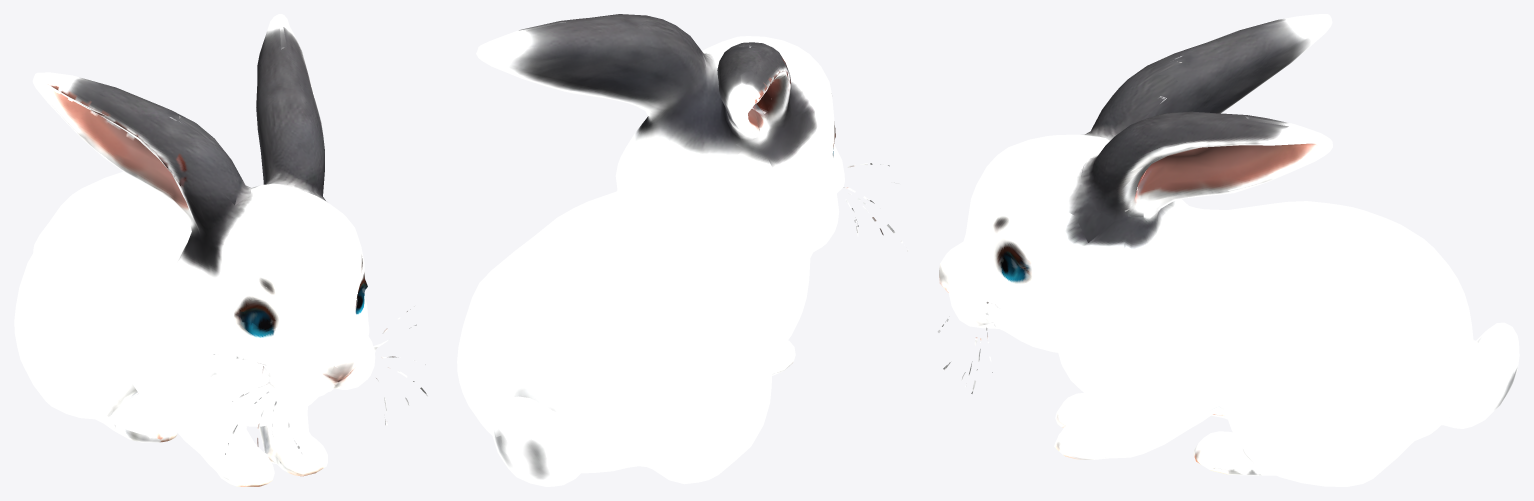
The model's file is rabbit.glb.
3 views of the same model, side by side, from view 1: azimuth 30°, elevation 25°; view 2: azimuth 150°, elevation 25°; view 3: azimuth 270°, elevation 25° (orthographic). The views are drawn at different scales.
Parts seen in each view (by area): view 1: Mesh0; view 2: Mesh0; view 3: Mesh0.
Part boxes in pixels (left/top/right/bottom): Mesh0: left=14, top=14, right=428, bottom=486; Mesh0: left=457, top=14, right=908, bottom=486; Mesh0: left=937, top=14, right=1519, bottom=486.
Bounding box in the file's own units: 0.7699 × 1 × 1.44.
Materials: 1 (1 with a texture image).
